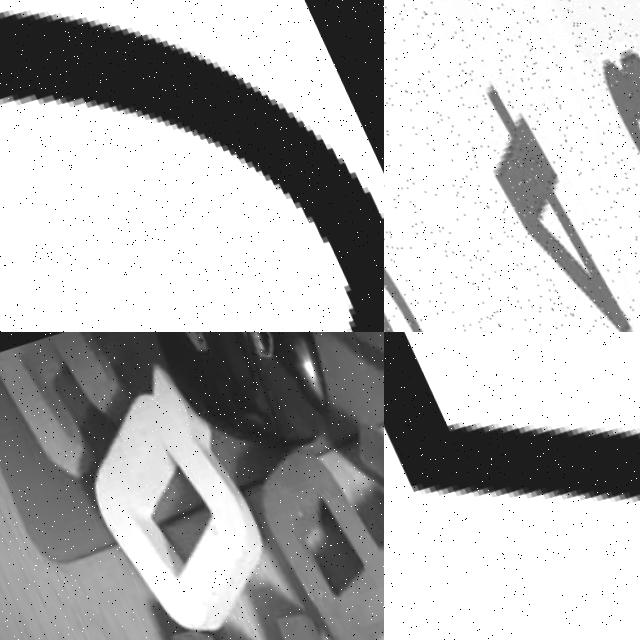4: (422, 32, 640, 332)
6: (384, 160, 488, 332)
8: (561, 11, 640, 312)
D: (384, 332, 640, 640)
E: (131, 571, 384, 640)
O: (0, 1, 384, 332)
P: (229, 406, 384, 640)
Q: (27, 342, 301, 640)
U: (281, 332, 384, 634)
